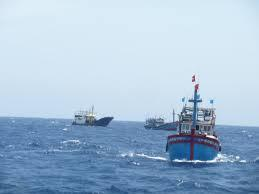Ship: (167, 76, 222, 162), (73, 106, 114, 127), (145, 119, 177, 131)
